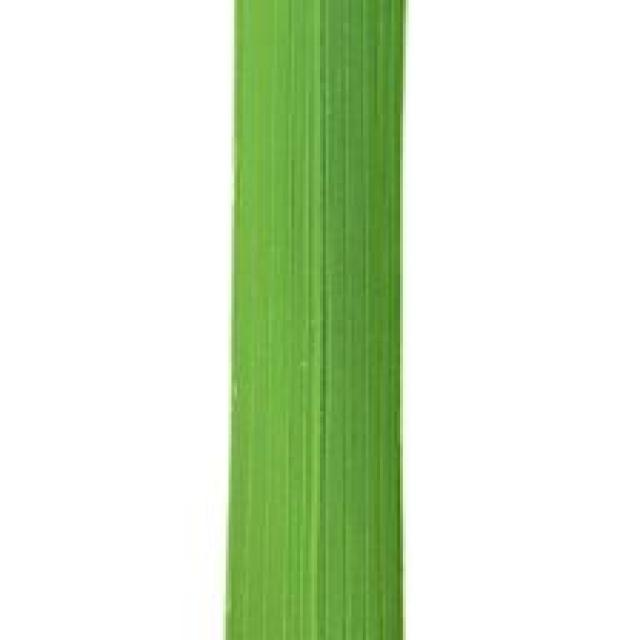Rice___Healthy_Rice_Plant: (225, 0, 407, 637)
